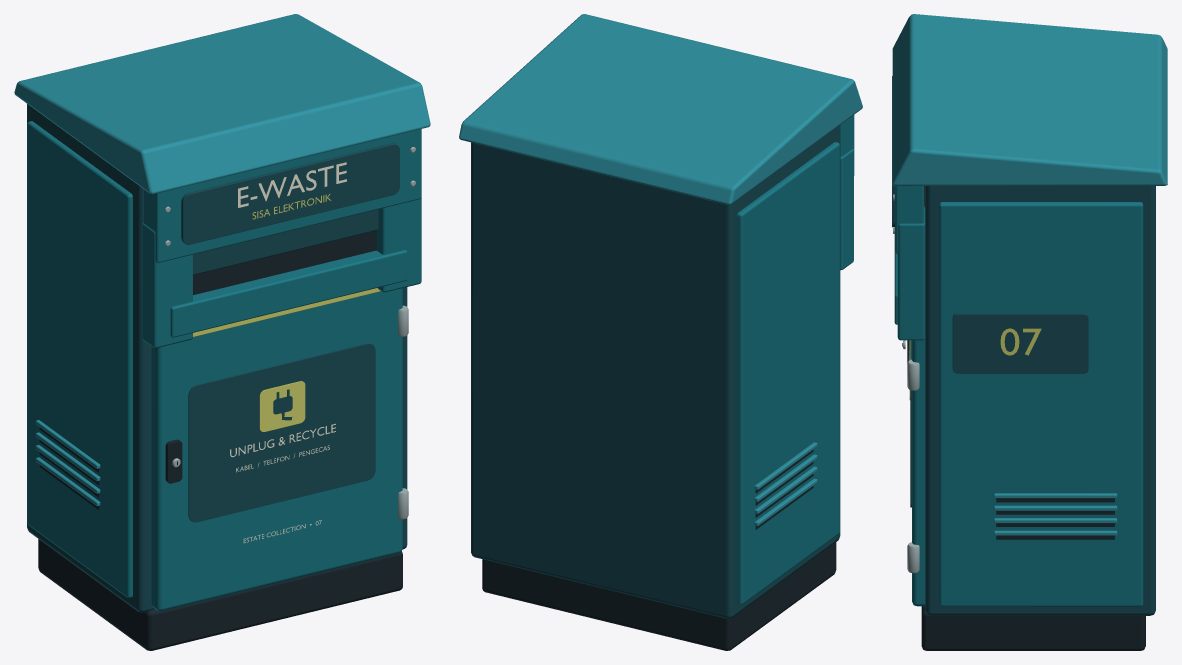
The picture shows the model from 3 angles, left to right: view 1: azimuth 30°, elevation 25°; view 2: azimuth 150°, elevation 25°; view 3: azimuth 270°, elevation 25°; orthographic projection. The views are drawn at different scales.
Visible parts, largest first — view 1: Cabinet Cap, Side Panels, Service Door, Details, Deposit Pocket, Body, Lettering, Hardware; view 2: Body, Cabinet Cap, Side Panels, Deposit Pocket; view 3: Side Panels, Cabinet Cap, Body, Deposit Pocket, Service Door, Hardware, Details.
Boxes of the visible parts, x1,y1,x2,y2 form: Cabinet Cap: [14, 14, 430, 194]; Side Panels: [27, 121, 132, 597]; Service Door: [151, 288, 402, 610]; Details: [165, 143, 399, 522]; Deposit Pocket: [142, 129, 421, 347]; Body: [27, 104, 407, 650]; Lettering: [230, 162, 346, 543]; Hardware: [165, 147, 415, 519]; Body: [471, 125, 840, 650]; Cabinet Cap: [459, 14, 862, 204]; Side Panels: [737, 142, 839, 604]; Deposit Pocket: [840, 115, 854, 270]; Side Panels: [939, 202, 1143, 606]; Cabinet Cap: [892, 14, 1167, 185]; Body: [921, 186, 1155, 650]; Deposit Pocket: [894, 186, 925, 340]; Service Door: [912, 338, 925, 606]; Hardware: [893, 194, 919, 573]; Details: [892, 76, 911, 507].
Bounding box in the file's own units: 0.893 × 1.51 × 0.7432.
